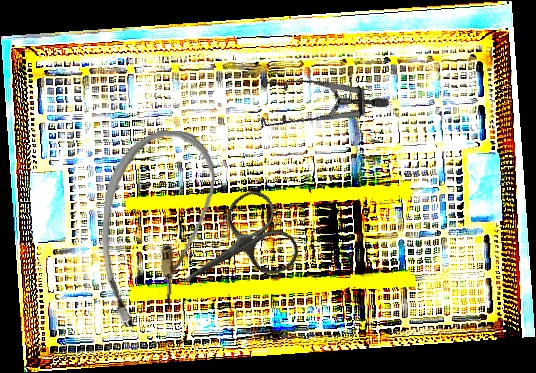Cannula: (96, 126, 218, 333)
Iris Scissors: (160, 183, 306, 319)
Speculum: (240, 36, 391, 180)
